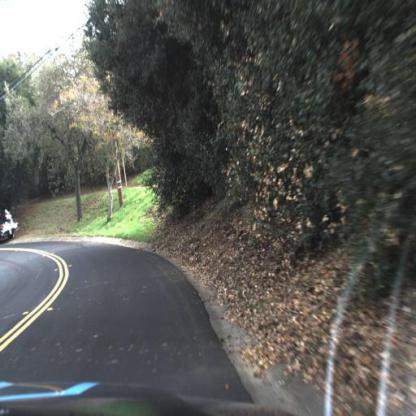car: (1, 203, 22, 251)
pedestrian: (1, 222, 21, 243)
